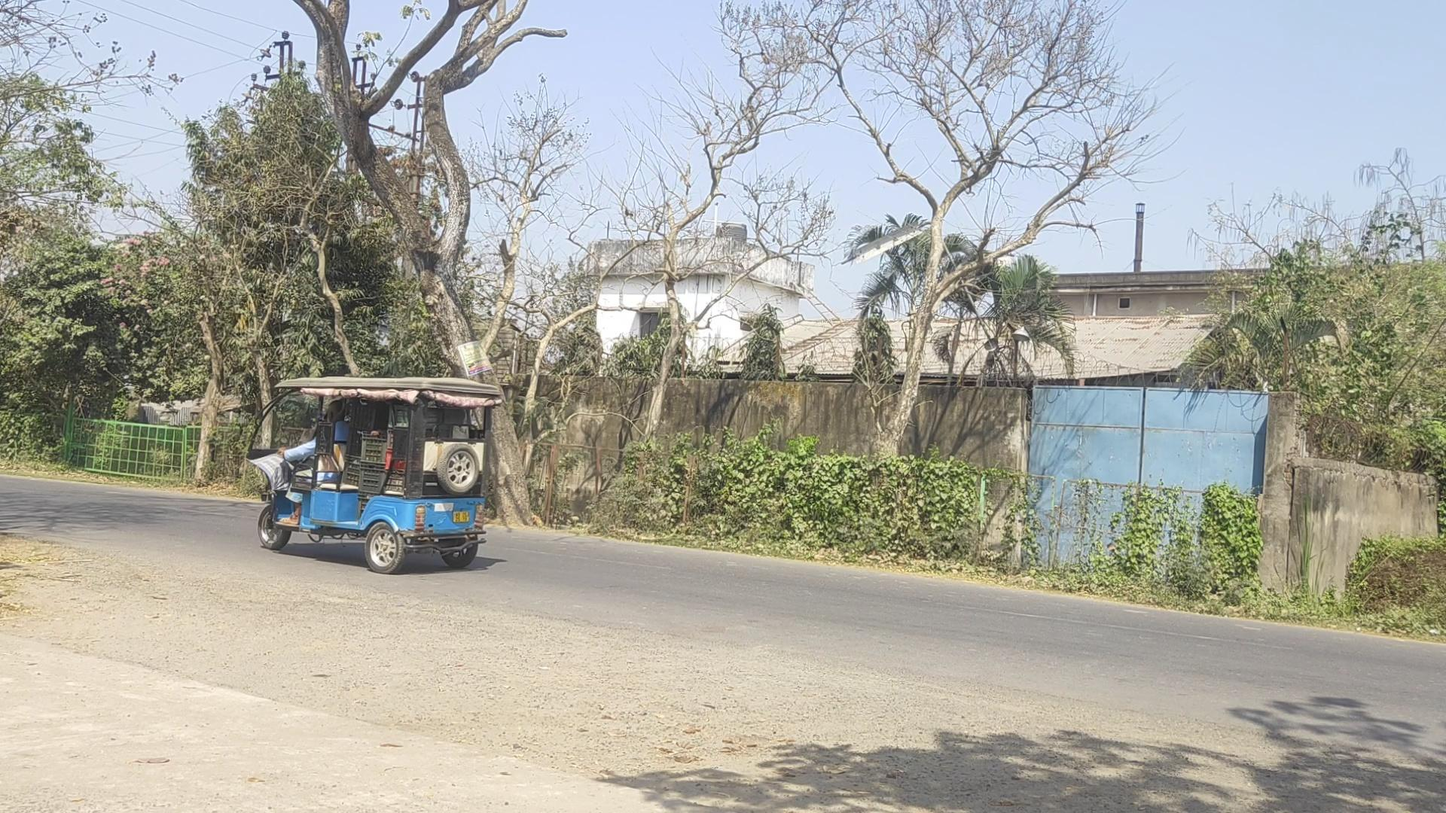Auto: (246, 376, 502, 577)
